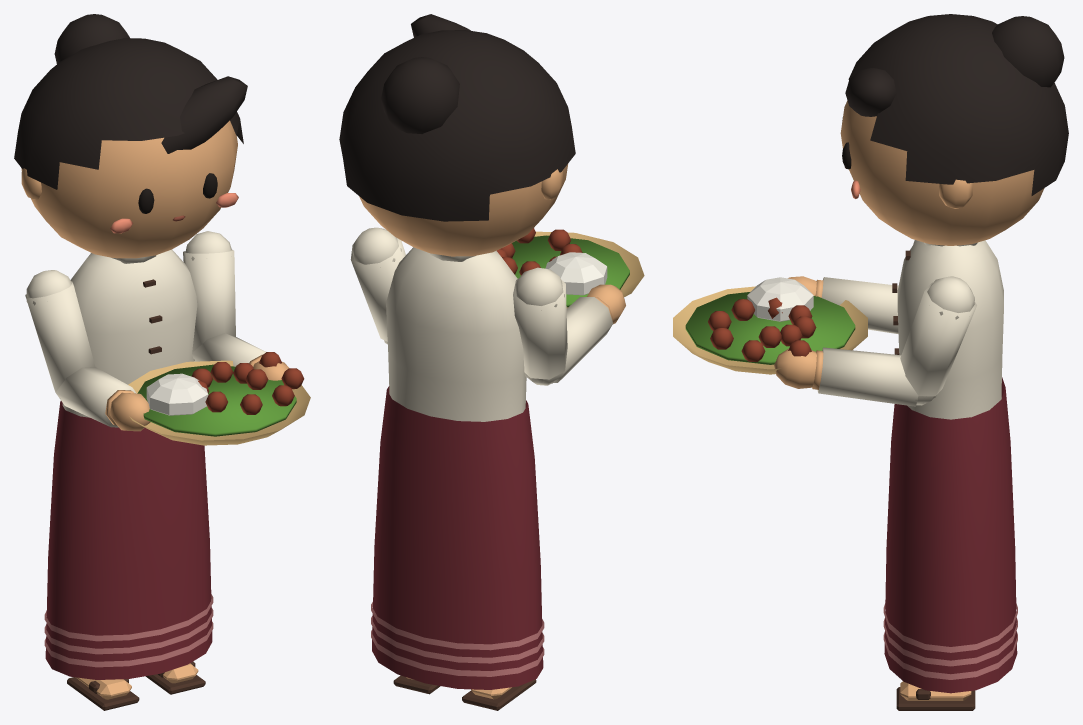
The model's file is north_sai_ua_vendor.glb.
3 views of the same model, side by side, from view 1: azimuth 30°, elevation 25°; view 2: azimuth 150°, elevation 25°; view 3: azimuth 270°, elevation 25° (orthographic). The views are drawn at different scales.
Visible parts, largest first — view 1: body, head, prop_sausage_tray, arm_R, arm_L, forearm_R, forearm_L, shin_R, shin_L; view 2: body, head, prop_sausage_tray, arm_R, arm_L, forearm_R, shin_R; view 3: body, head, prop_sausage_tray, arm_L, forearm_L, forearm_R, shin_L.
Part boxes in pixels (left/top/right/bottom): body: left=44, top=249, right=213, bottom=679; head: left=14, top=14, right=247, bottom=258; prop_sausage_tray: left=128, top=352, right=310, bottom=445; arm_R: left=25, top=270, right=95, bottom=398; arm_L: left=183, top=231, right=235, bottom=360; forearm_R: left=55, top=367, right=150, bottom=431; forearm_L: left=192, top=333, right=288, bottom=380; shin_R: left=67, top=677, right=139, bottom=710; shin_L: left=146, top=661, right=205, bottom=694; body: left=371, top=247, right=544, bottom=689; head: left=339, top=14, right=575, bottom=256; prop_sausage_tray: left=497, top=228, right=644, bottom=308; arm_R: left=513, top=267, right=567, bottom=385; arm_L: left=350, top=227, right=405, bottom=343; forearm_R: left=525, top=284, right=625, bottom=383; shin_R: left=462, top=679, right=536, bottom=710; body: left=883, top=240, right=1017, bottom=693; head: left=840, top=14, right=1068, bottom=245; prop_sausage_tray: left=673, top=277, right=867, bottom=374; arm_L: left=900, top=276, right=976, bottom=405; forearm_L: left=774, top=347, right=936, bottom=406; forearm_R: left=788, top=276, right=898, bottom=334; shin_L: left=896, top=681, right=975, bottom=710.
Bounding box in the file's own units: 0.4938 × 1.47 × 0.7922.
